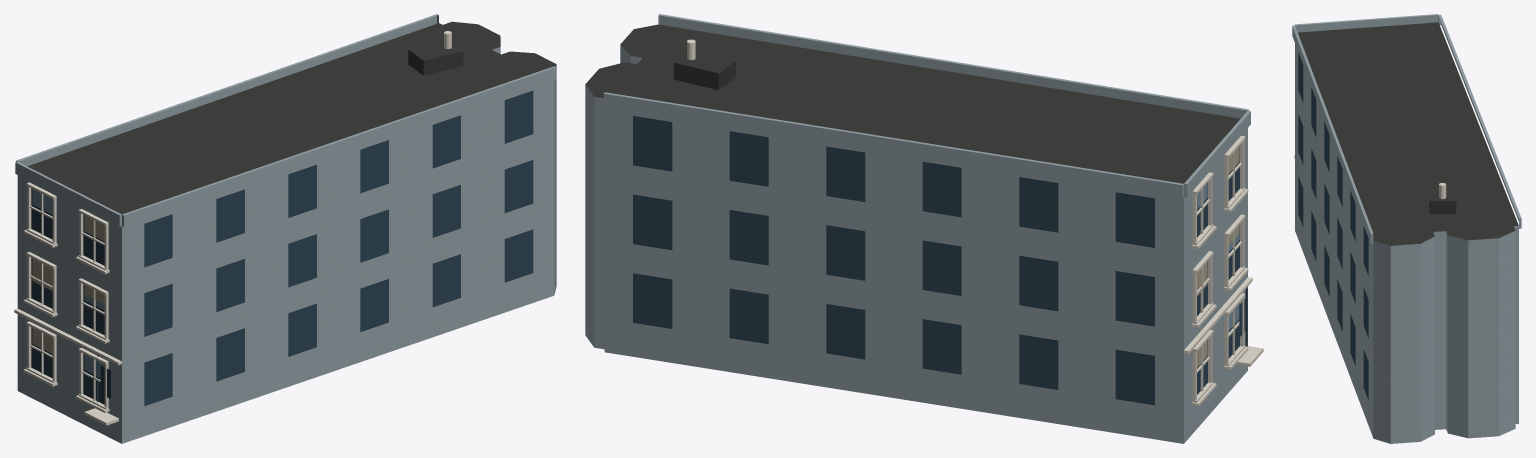
3 renders of one model, left to right at view 1: azimuth 30°, elevation 25°; view 2: azimuth 150°, elevation 25°; view 3: azimuth 270°, elevation 25°, orthographic. The views are drawn at different scales.
Parts seen in each view (by area): view 1: Footprint 0 / surface 2, Footprint 0 / surface 1, Inset glazing, Facade bay volumes, Cornices and window frames, Interior blind variation, Sky reflection panels, Inferred rooftop service enclosure / surface 5, Inferred rooftop service enclosure / surface 3; view 2: Footprint 0 / surface 2, Footprint 0 / surface 1, Inset glazing, Facade bay volumes, Cornices and window frames, Inferred rooftop service enclosure / surface 6, Inferred rooftop service enclosure / surface 3; view 3: Footprint 0 / surface 2, Footprint 0 / surface 1, Inset glazing, Facade bay volumes, Inferred rooftop service enclosure / surface 3, Inferred rooftop service enclosure / surface 1.
Boxes of the visible parts, x1=… form: Footprint 0 / surface 2: x1=17, y1=47, x2=556, y2=443; Footprint 0 / surface 1: x1=27, y1=21, x2=556, y2=214; Inset glazing: x1=31, y1=90, x2=533, y2=406; Facade bay volumes: x1=15, y1=14, x2=556, y2=226; Cornices and window frames: x1=14, y1=182, x2=121, y2=425; Interior blind variation: x1=32, y1=215, x2=104, y2=353; Sky reflection panels: x1=32, y1=189, x2=104, y2=377; Inferred rooftop service enclosure / surface 5: x1=423, y1=51, x2=463, y2=75; Inferred rooftop service enclosure / surface 3: x1=409, y1=41, x2=462, y2=60; Footprint 0 / surface 2: x1=585, y1=45, x2=1247, y2=443; Footprint 0 / surface 1: x1=585, y1=24, x2=1240, y2=183; Inset glazing: x1=633, y1=116, x2=1245, y2=405; Facade bay volumes: x1=603, y1=14, x2=1250, y2=198; Cornices and window frames: x1=1184, y1=135, x2=1263, y2=406; Inferred rooftop service enclosure / surface 6: x1=674, y1=62, x2=718, y2=90; Inferred rooftop service enclosure / surface 3: x1=674, y1=51, x2=735, y2=73; Footprint 0 / surface 2: x1=1295, y1=43, x2=1518, y2=443; Footprint 0 / surface 1: x1=1298, y1=22, x2=1518, y2=245; Inset glazing: x1=1298, y1=52, x2=1368, y2=400; Facade bay volumes: x1=1292, y1=14, x2=1521, y2=243; Inferred rooftop service enclosure / surface 3: x1=1429, y1=183, x2=1456, y2=200; Inferred rooftop service enclosure / surface 1: x1=1429, y1=201, x2=1456, y2=214.
Bounding box in the file's own units: 23.46 × 10.92 × 10.09.
